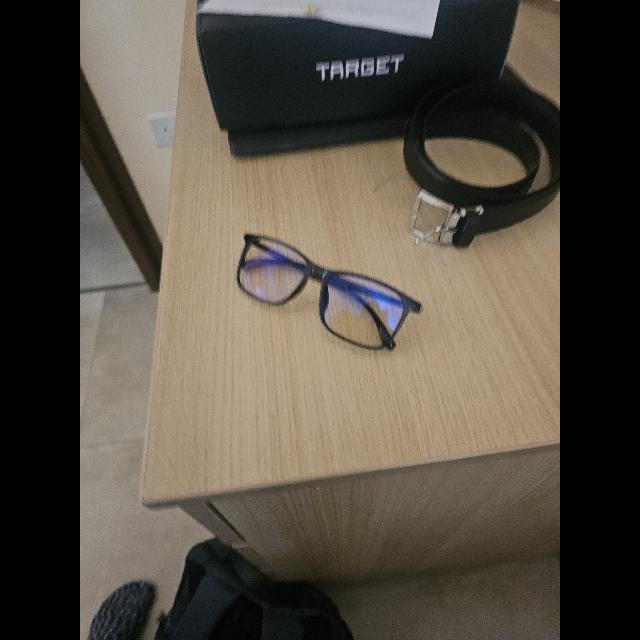glasses: (236, 235, 422, 349)
